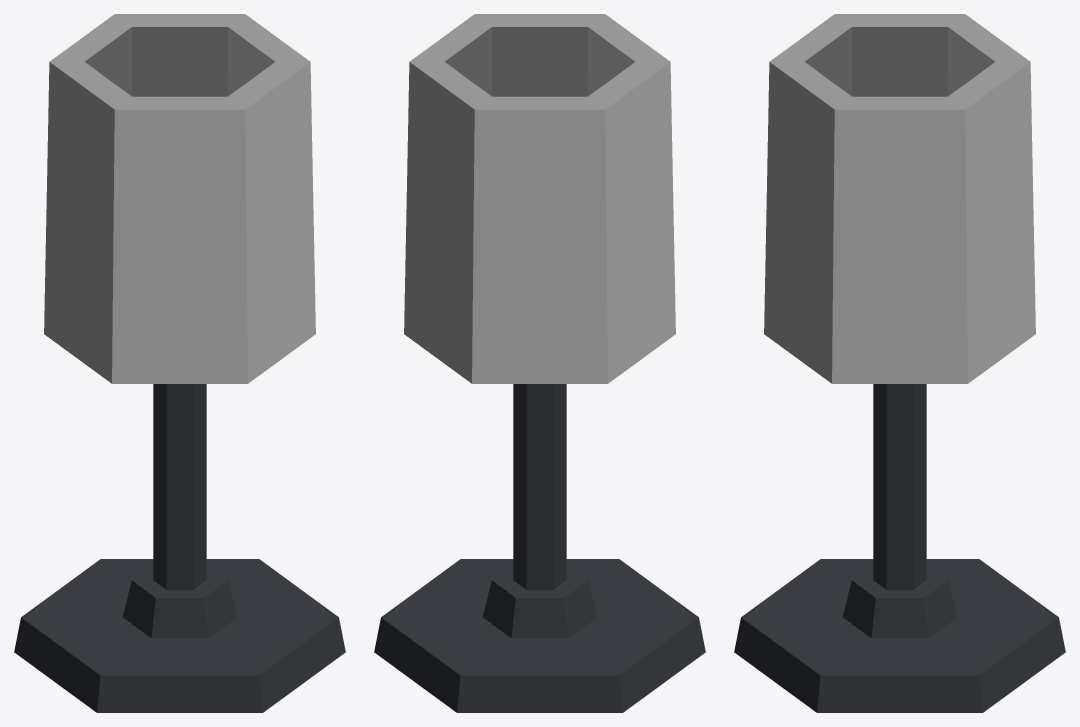
Rendered from SM_Prop_DeskLamp_06.glb.
The picture shows the model from 3 angles, left to right: view 1: azimuth 30°, elevation 25°; view 2: azimuth 150°, elevation 25°; view 3: azimuth 270°, elevation 25°; orthographic projection.
Parts seen in each view (by area): view 1: SM_Prop_DeskLamp_06; view 2: SM_Prop_DeskLamp_06; view 3: SM_Prop_DeskLamp_06.
Part boxes in pixels (bbox=[...]): SM_Prop_DeskLamp_06: bbox=[14, 14, 345, 712]; SM_Prop_DeskLamp_06: bbox=[374, 14, 705, 712]; SM_Prop_DeskLamp_06: bbox=[734, 14, 1065, 712].
Size of the model in its own units: 0.214 by 0.4853 by 0.2471.
1 material, 1 textured.
